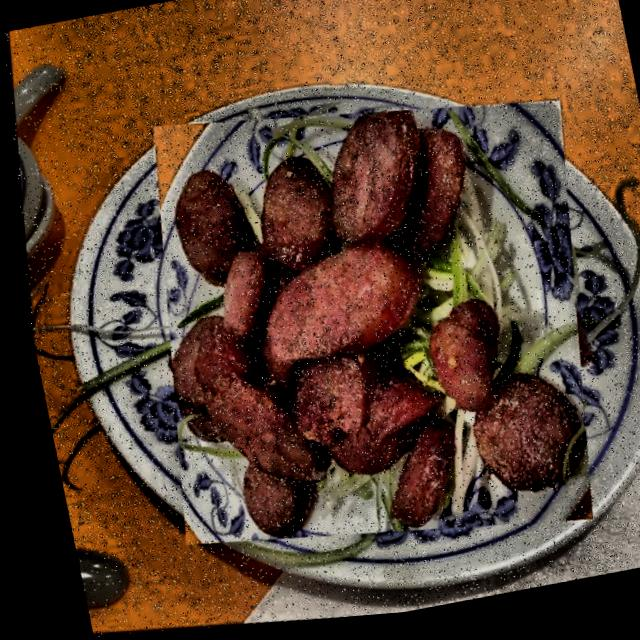Food: (93, 59, 637, 597)
